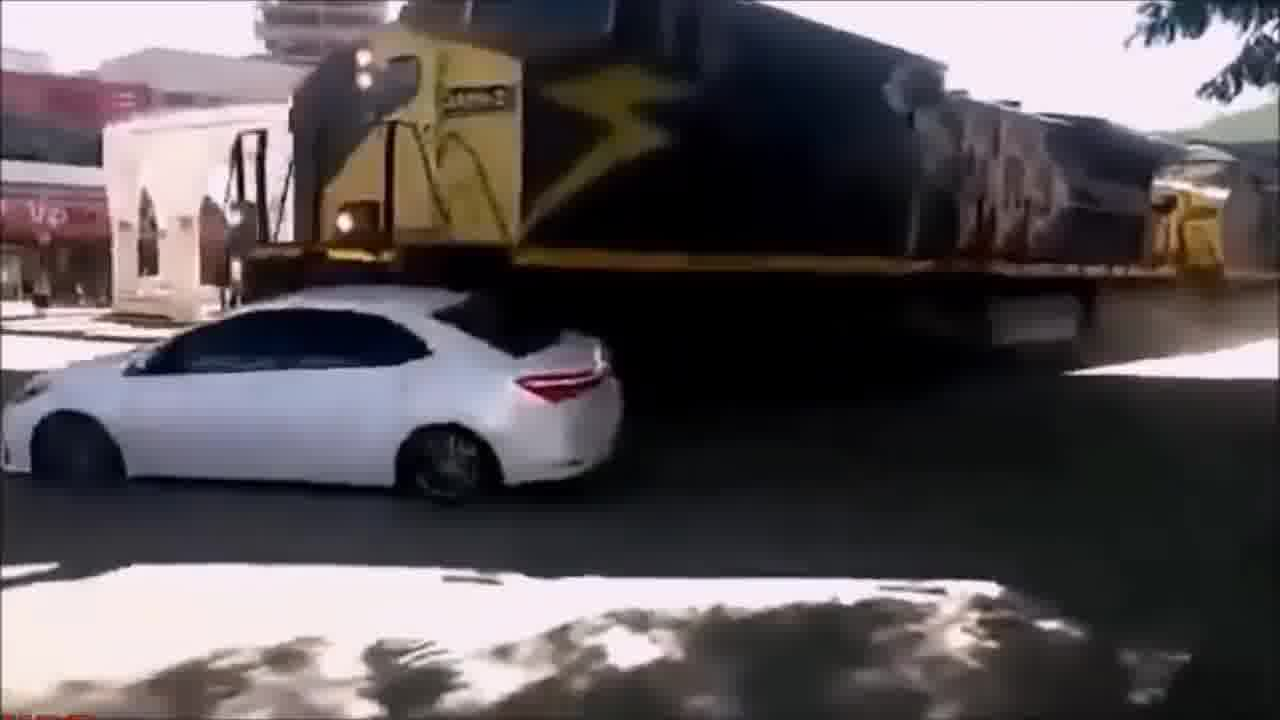crossing railway track: (2, 238, 636, 524)
